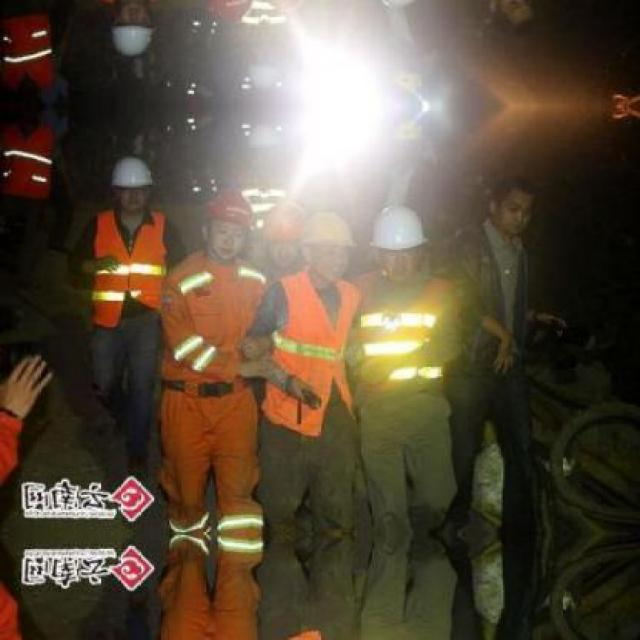Reflective-Jacket: (155, 253, 274, 421), (351, 271, 475, 409), (262, 267, 364, 433), (82, 204, 180, 330), (0, 4, 72, 115), (0, 117, 69, 219)
Safety-Helmet: (363, 196, 440, 264), (290, 203, 362, 260), (194, 187, 263, 239), (102, 150, 163, 200)
